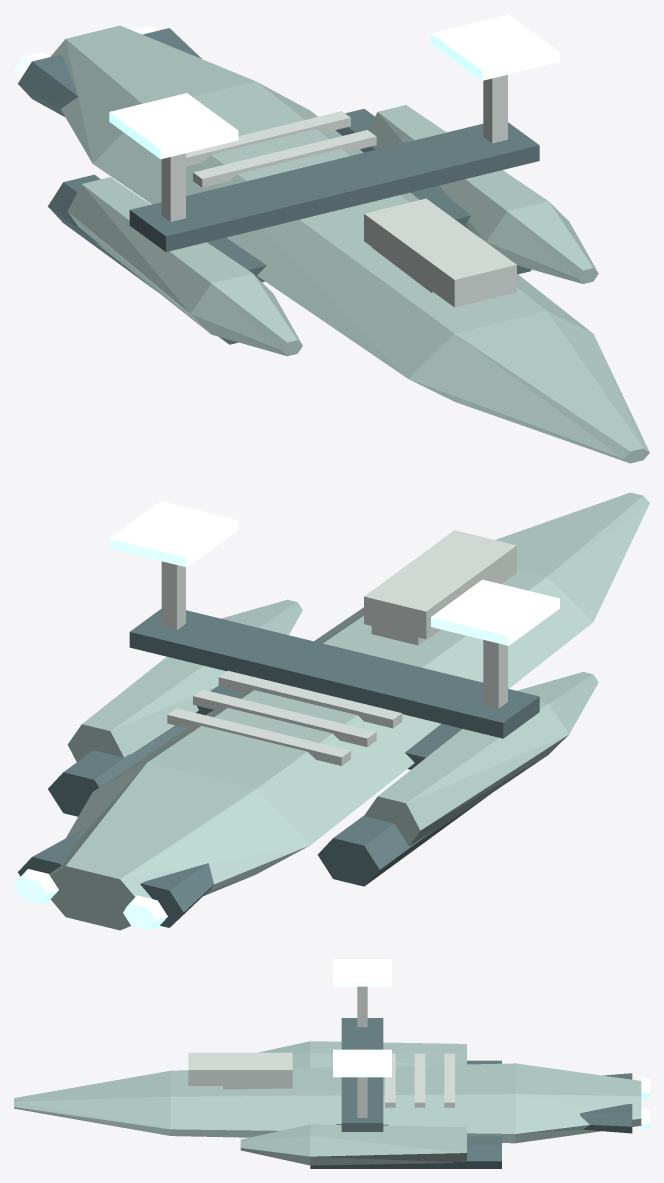
3 views of the same model, one above another, from view 1: azimuth 30°, elevation 25°; view 2: azimuth 150°, elevation 25°; view 3: azimuth 270°, elevation 25° (orthographic). The views are drawn at different scales.
Size of the model in its own units: 3.48 by 1.63 by 8.32.
